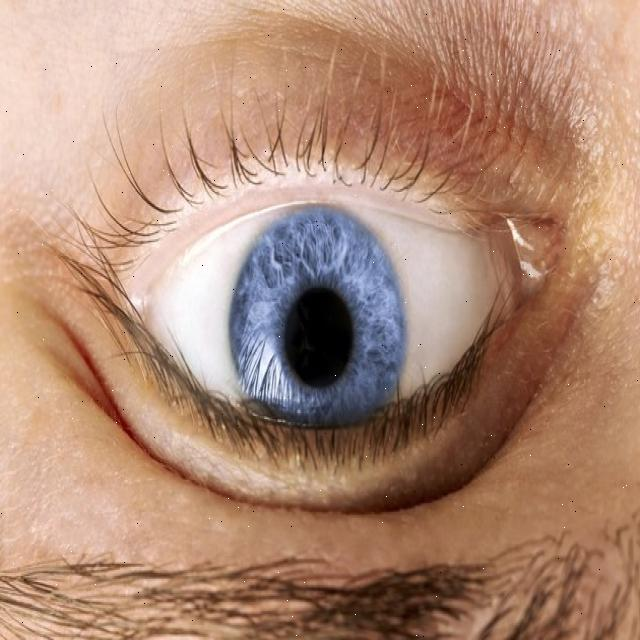Normal: (228, 203, 405, 464)
